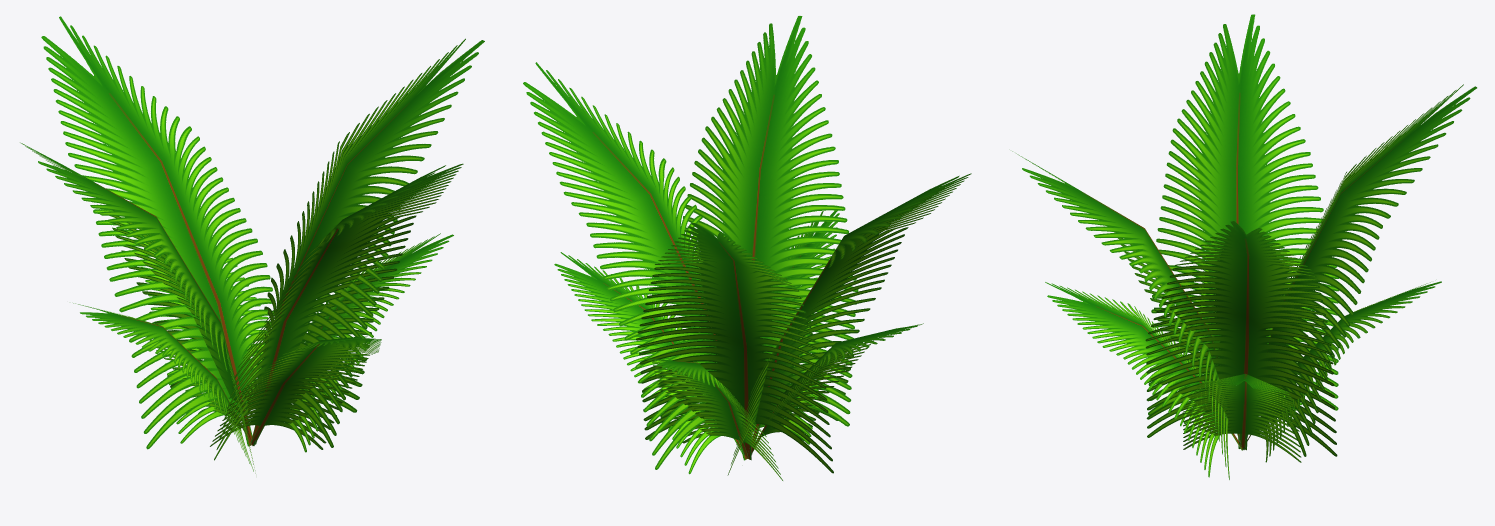
File: Palm3.fbx
3 views of the same model, side by side, from view 1: azimuth 30°, elevation 25°; view 2: azimuth 150°, elevation 25°; view 3: azimuth 270°, elevation 25° (orthographic). The views are drawn at different scales.
Visible parts, largest first — view 1: Palm2.001; view 2: Palm2.001; view 3: Palm2.001.
Boxes of the visible parts, x1,y1,x2,y2 form: Palm2.001: (20,16,484,473); Palm2.001: (523,15,971,480); Palm2.001: (1012,14,1477,479).
Size of the model in its own units: 318 by 248 by 303.
